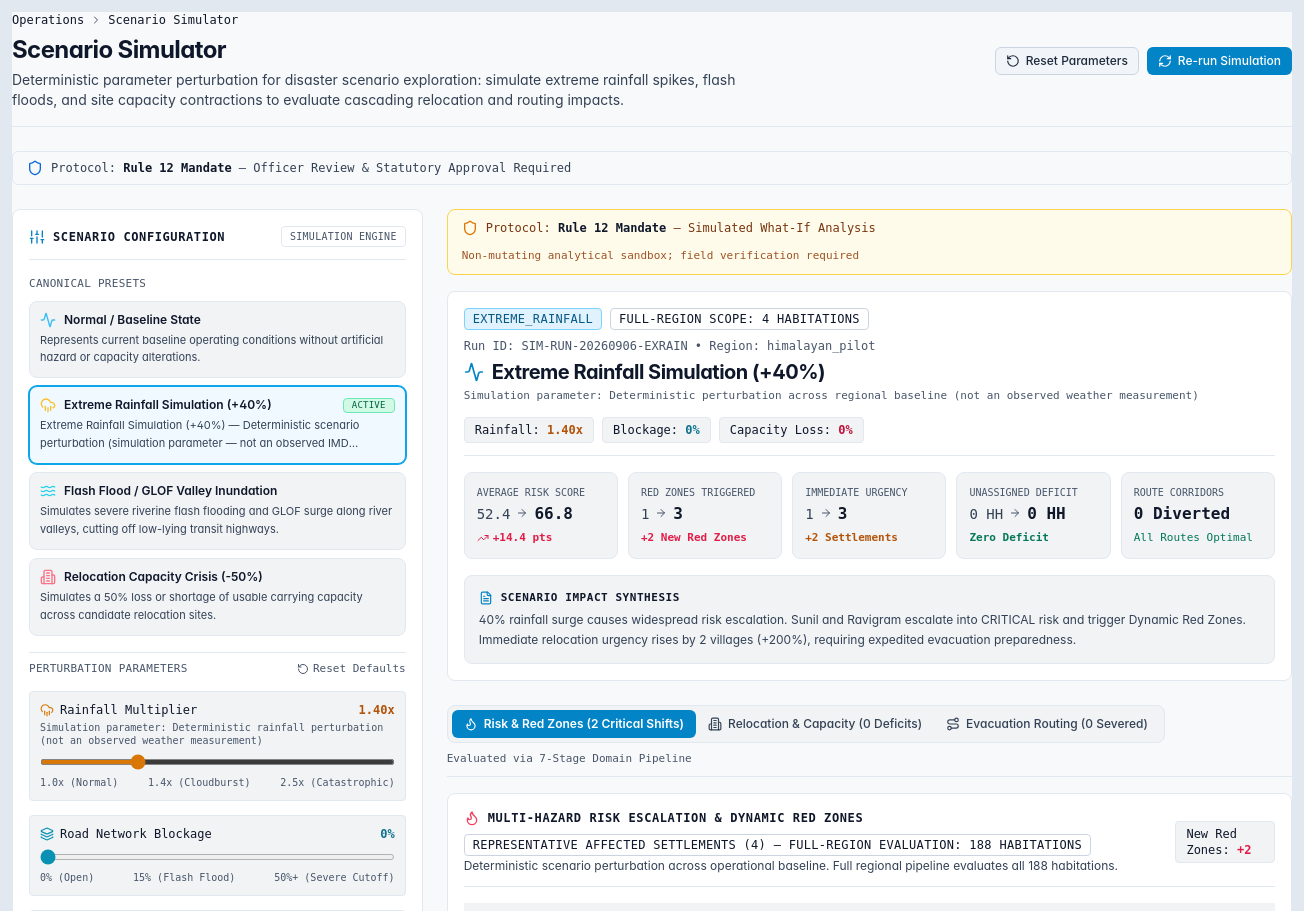
it: Scenario Simulator UI Suite (Chunk M6-04) › Domain Impact Tabs (Risk, Relocation, Routing) › switches to Relocation & Capacity tab and shows unassigned deficits
This screenshot has width=1304, height=911.
Click the tab "Relocation & Capacity (0 Deficits)". click: click(815, 724)
box: [696,710,934,738]
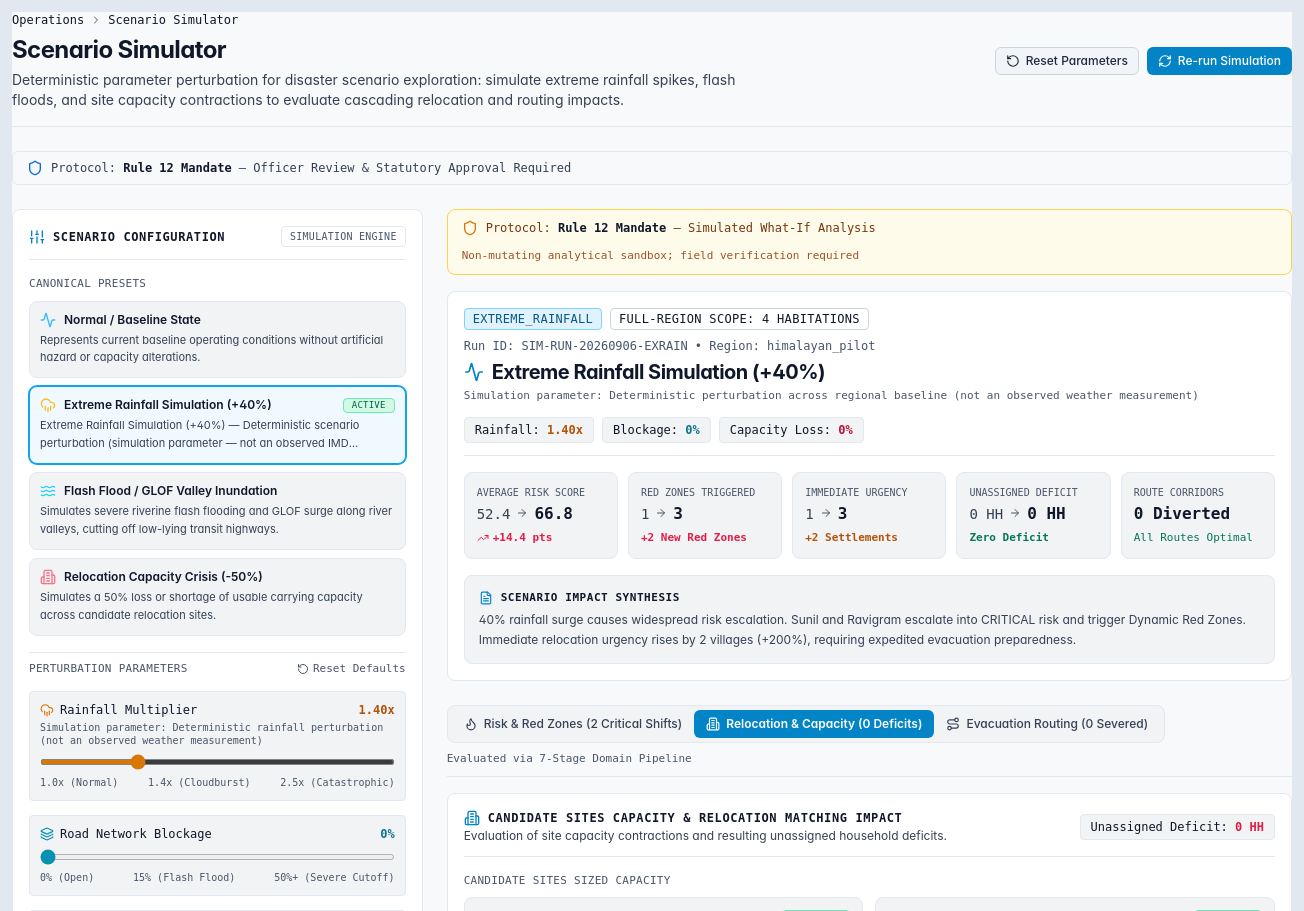
Now the text "Candidate Sites Capacity & Relocation Matching Impact" is shown, box [488,810,902,826]
